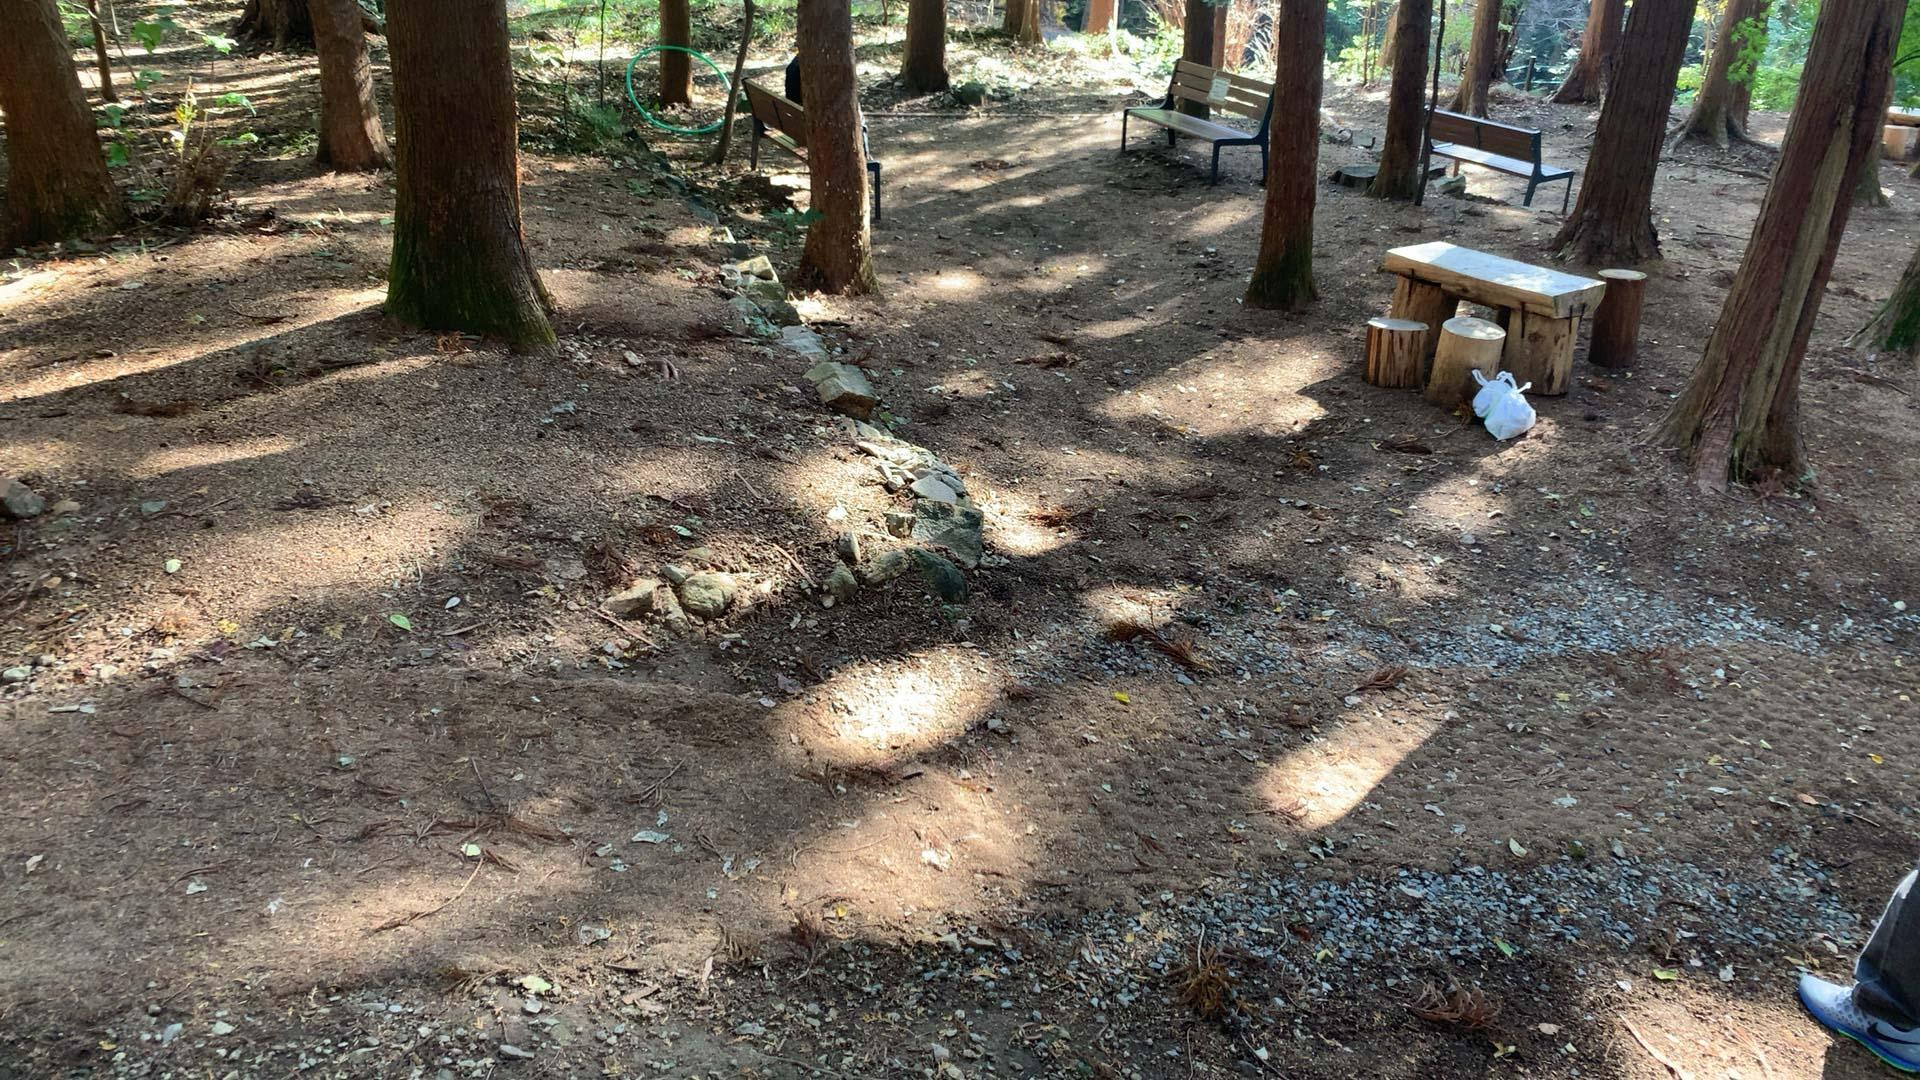white_bag: (1464, 360, 1542, 446)
